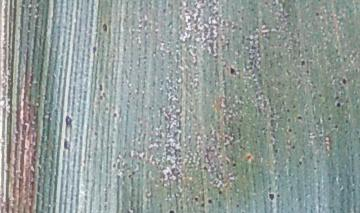tarspot: (63, 114, 75, 130), (62, 135, 72, 153), (101, 21, 108, 35), (127, 170, 136, 180), (245, 153, 254, 162), (160, 6, 169, 15), (228, 66, 236, 76), (90, 45, 98, 55), (267, 192, 275, 202), (299, 58, 307, 68), (216, 188, 225, 196), (290, 102, 298, 111), (332, 122, 340, 131), (225, 40, 231, 52), (97, 82, 104, 92), (111, 110, 118, 119), (111, 161, 118, 170), (202, 164, 209, 173), (207, 197, 214, 205), (192, 195, 199, 203), (286, 126, 293, 134), (233, 202, 241, 209), (326, 115, 333, 123), (333, 94, 341, 101), (297, 159, 304, 167), (341, 77, 347, 86), (290, 143, 296, 152), (285, 116, 292, 123), (314, 10, 320, 18), (199, 201, 205, 209), (93, 130, 99, 138), (335, 101, 341, 108), (276, 193, 283, 199), (231, 162, 237, 169), (285, 107, 291, 114), (316, 92, 323, 98), (249, 6, 256, 12), (239, 15, 245, 22), (235, 8, 241, 15), (167, 209, 177, 213), (296, 115, 301, 120)
